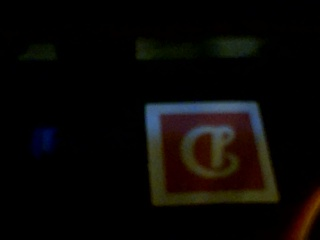D: (158, 111, 269, 194)
